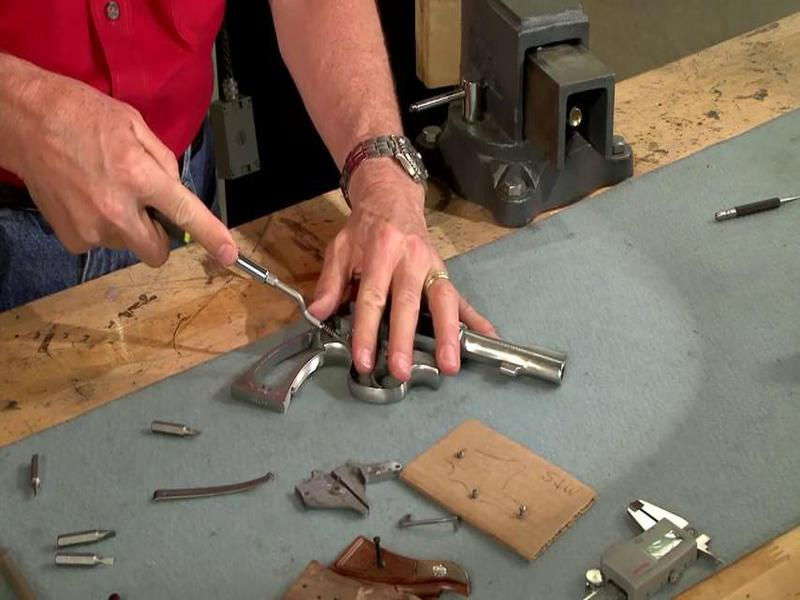Revolver: (229, 254, 597, 433)
